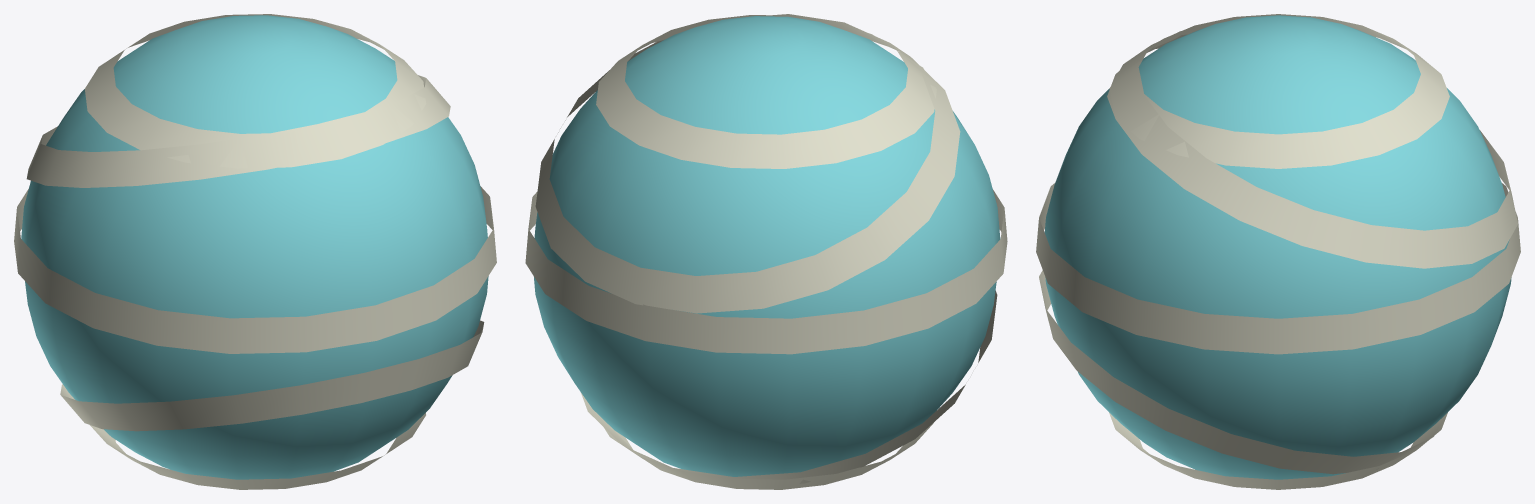
The model's file is mainball (1).fbx.
3 views of the same model, side by side, from view 1: azimuth 30°, elevation 25°; view 2: azimuth 150°, elevation 25°; view 3: azimuth 270°, elevation 25° (orthographic).
Visible parts, largest first — view 1: pSphere6; view 2: pSphere6; view 3: pSphere6.
Boxes of the visible parts, x1,y1,x2,y2 form: pSphere6: [14, 14, 496, 489]; pSphere6: [525, 14, 1007, 489]; pSphere6: [1036, 14, 1520, 489].
Bounding box in the file's own units: 4.17 × 4.05 × 4.17.
